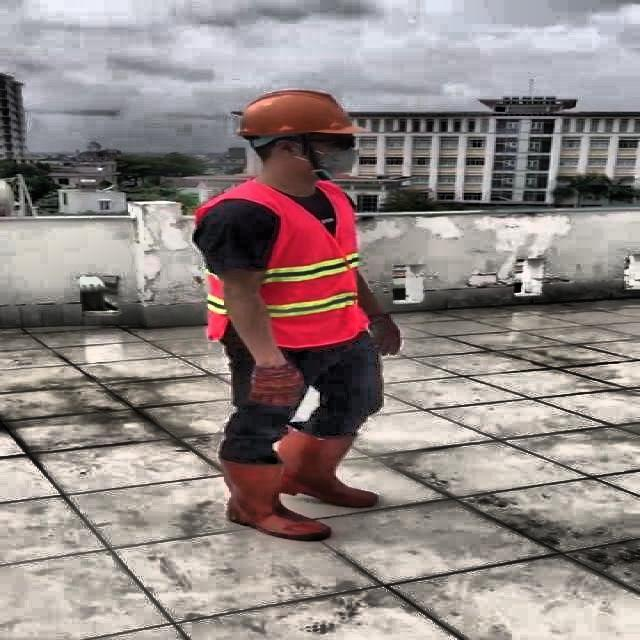safety_helmet: (234, 87, 371, 135)
safety_jacket: (197, 182, 368, 347)
